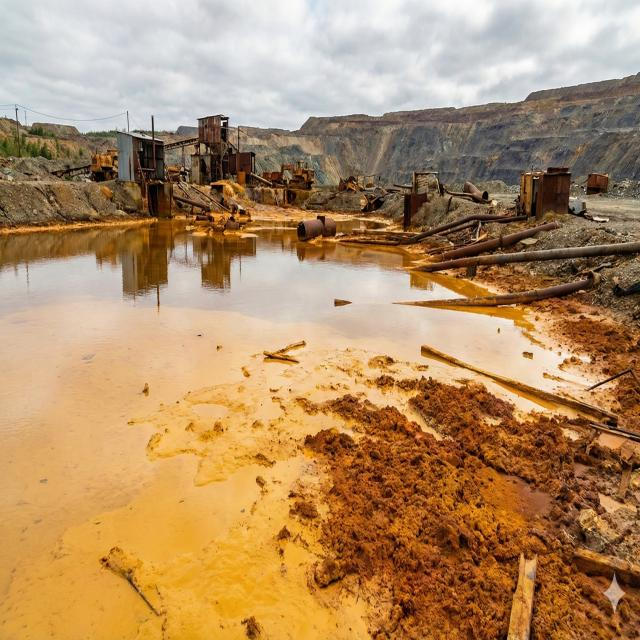yellow_boy: (0, 223, 569, 640)
